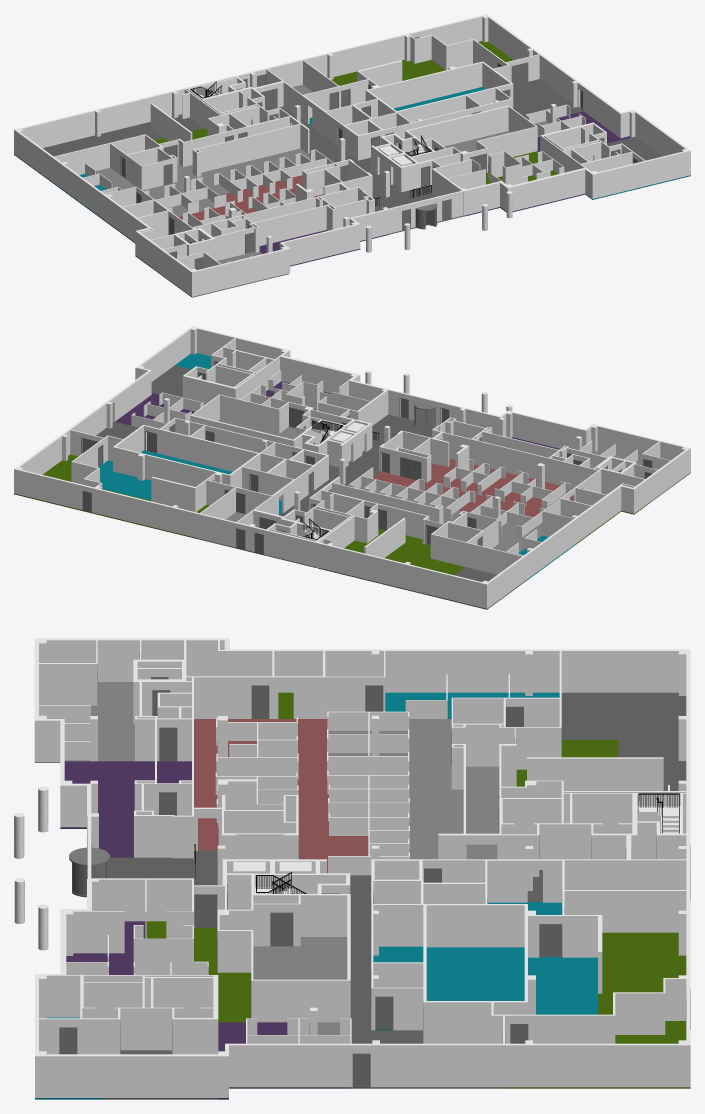
File: 3d_floor_plan.glb
The picture shows the model from 3 angles, top to bottom: view 1: azimuth 30°, elevation 25°; view 2: azimuth 150°, elevation 25°; view 3: azimuth 270°, elevation 25°; orthographic projection. The views are drawn at different scales.
Parts seen in each view (by area): view 1: Object_5, Object_7, Object_8, Object_4, Object_3, Object_6, Object_10, Object_9, Object_2, Object_11; view 2: Object_5, Object_8, Object_7, Object_3, Object_6, Object_9, Object_4, Object_10, Object_11, Object_2; view 3: Object_5, Object_4, Object_7, Object_9, Object_3, Object_8, Object_10, Object_6, Object_11, Object_2.
Boxes of the visible parts, bbox=[...] form: Object_5: bbox=[14, 14, 690, 296]; Object_7: bbox=[14, 79, 662, 234]; Object_8: bbox=[120, 36, 638, 269]; Object_4: bbox=[95, 84, 548, 297]; Object_3: bbox=[103, 41, 557, 264]; Object_6: bbox=[178, 175, 323, 227]; Object_10: bbox=[259, 111, 630, 266]; Object_9: bbox=[51, 87, 690, 219]; Object_2: bbox=[190, 81, 431, 206]; Object_11: bbox=[198, 89, 426, 184]; Object_5: bbox=[14, 326, 690, 608]; Object_8: bbox=[81, 347, 652, 554]; Object_7: bbox=[96, 365, 524, 609]; Object_3: bbox=[14, 409, 646, 575]; Object_6: bbox=[373, 458, 573, 517]; Object_9: bbox=[98, 353, 575, 581]; Object_4: bbox=[170, 419, 690, 567]; Object_10: bbox=[115, 381, 559, 449]; Object_11: bbox=[303, 422, 365, 540]; Object_2: bbox=[303, 420, 379, 539]; Object_5: bbox=[14, 638, 690, 1097]; Object_4: bbox=[34, 682, 499, 1034]; Object_7: bbox=[102, 692, 686, 1099]; Object_9: bbox=[35, 692, 597, 1099]; Object_3: bbox=[146, 692, 690, 1088]; Object_8: bbox=[59, 652, 690, 1087]; Object_10: bbox=[60, 761, 351, 1099]; Object_6: bbox=[194, 719, 368, 873]; Object_11: bbox=[233, 806, 680, 893]; Object_2: bbox=[194, 793, 679, 893].
Size of the model in its own units: 0.8879 by 0.0567 by 0.6079.
